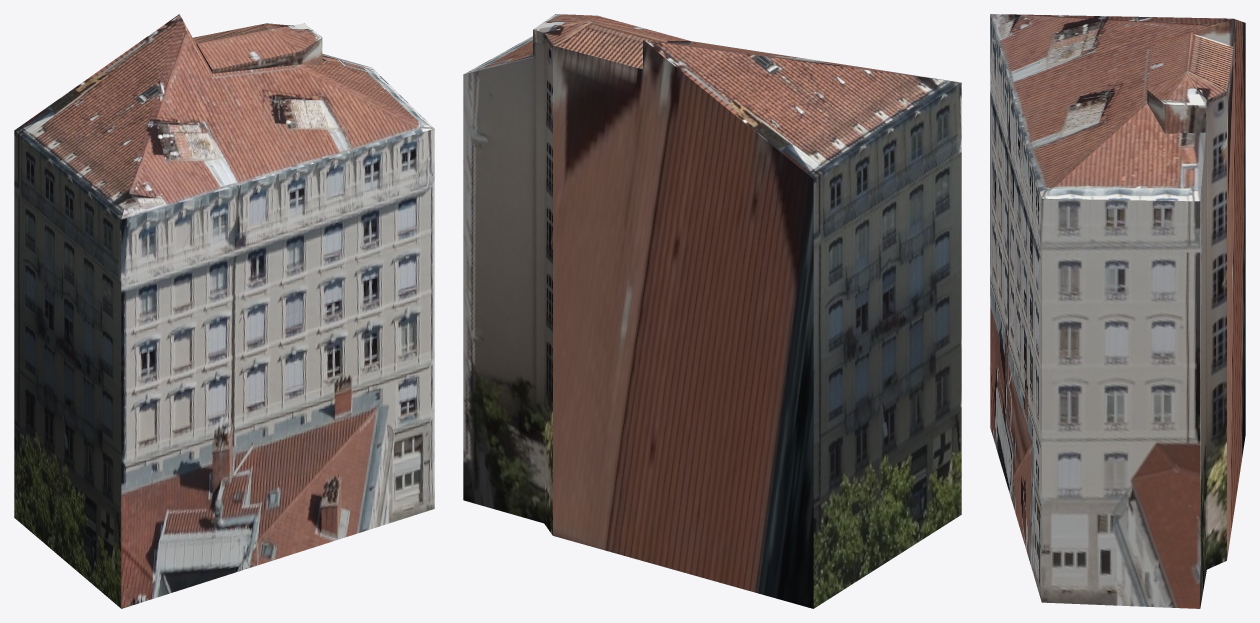
3 views of the same model, side by side, from view 1: azimuth 30°, elevation 25°; view 2: azimuth 150°, elevation 25°; view 3: azimuth 270°, elevation 25° (orthographic). The views are drawn at different scales.
Parts seen in each view (by area): view 1: Z_UP; view 2: Z_UP; view 3: Z_UP.
Boxes of the visible parts, x1,y1,x2,y2 form: Z_UP: (14,14,434,608); Z_UP: (463,14,961,608); Z_UP: (990,14,1245,608).
Bounding box in the file's own units: 22.97 × 29.44 × 13.68.
Materials: 2 (1 with a texture image).
